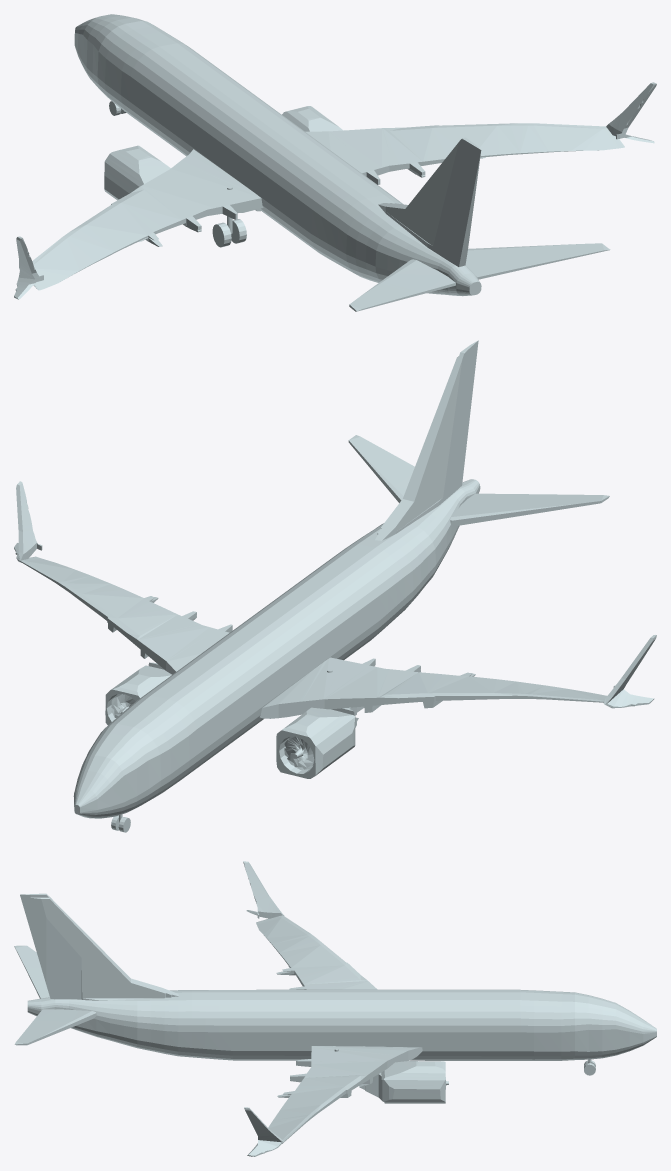
3 renders of one model, top to bottom at view 1: azimuth 30°, elevation 25°; view 2: azimuth 150°, elevation 25°; view 3: azimuth 270°, elevation 25°, orthographic. The views are drawn at different scales.
Parts seen in each view (by area): view 1: Aircraft visual hull, Landing gear; view 2: Aircraft visual hull, Rotor 1789899581758-cqow6whfivs-mirror; view 3: Aircraft visual hull.
Boxes of the visible parts, <box> form: Aircraft visual hull: <box>14,14,656,311</box>; Landing gear: <box>109,101,246,247</box>; Aircraft visual hull: <box>14,340,656,818</box>; Rotor 1789899581758-cqow6whfivs-mirror: <box>284,736,314,769</box>; Aircraft visual hull: <box>14,861,656,1156</box>.
Bounding box in the file's own units: 35.88 × 12.26 × 39.62.
